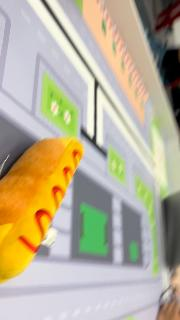hotdog: (1, 136, 86, 284)
